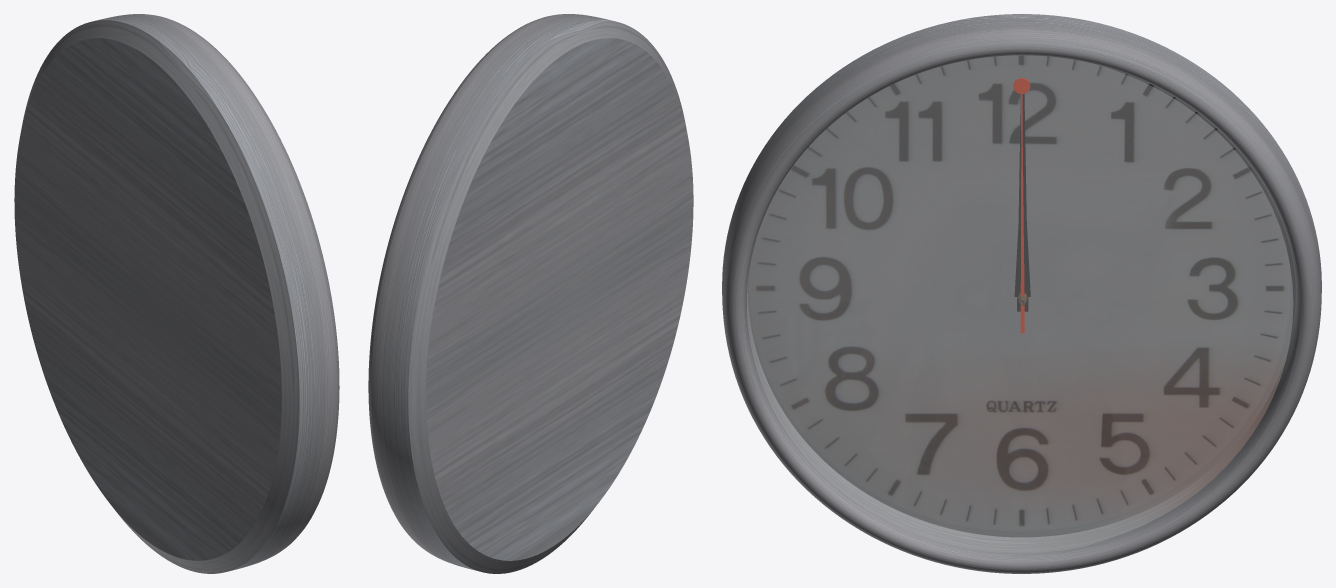
The model's file is Constrain_Clock9.blend.fbx.
3 renders of one model, left to right at view 1: azimuth 30°, elevation 25°; view 2: azimuth 150°, elevation 25°; view 3: azimuth 270°, elevation 25°, orthographic. The views are drawn at different scales.
Parts seen in each view (by area): view 1: Minuten.002; view 2: Minuten.002; view 3: Minuten.002, Minuten.001, Minuten.004, Minuten.
Boxes of the visible parts, x1=… form: Minuten.002: x1=14, y1=14, x2=339, y2=573; Minuten.002: x1=368, y1=14, x2=693, y2=573; Minuten.002: x1=722, y1=14, x2=1321, y2=573; Minuten.001: x1=747, y1=56, x2=1292, y2=552; Minuten.004: x1=1017, y1=94, x2=1028, y2=311; Minuten: x1=1013, y1=78, x2=1030, y2=333.
Size of the model in its own units: 10 by 88.93 by 88.93.
